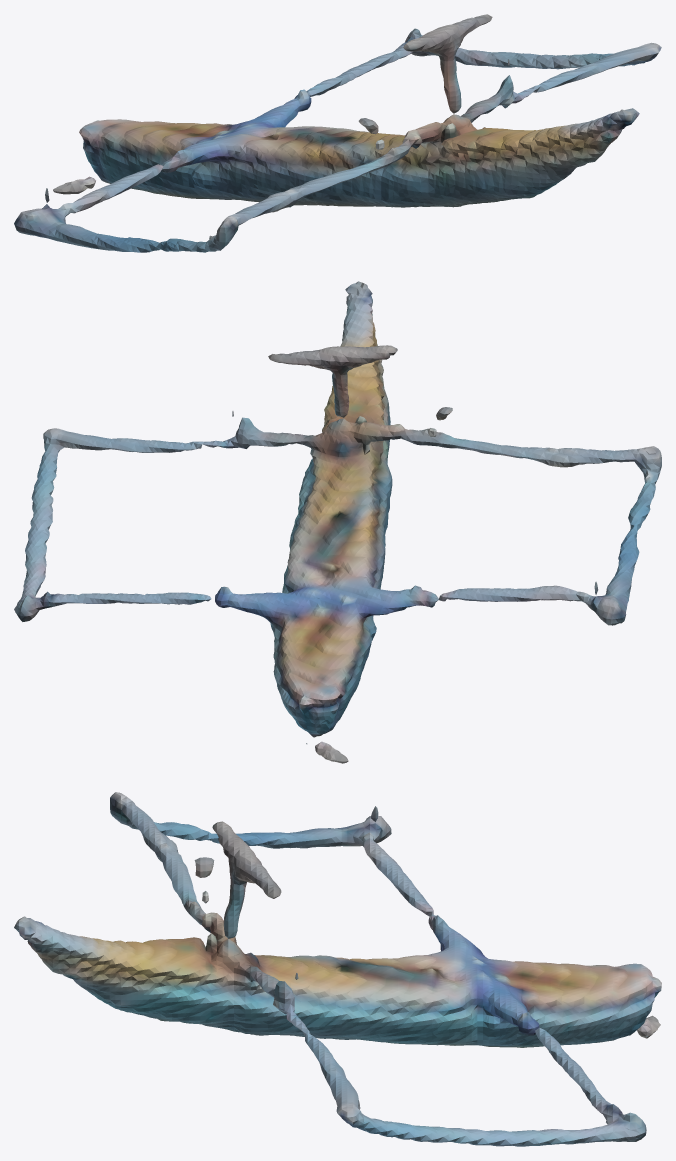
Rendered from maluku.glb.
3 renders of one model, top to bottom at view 1: azimuth 30°, elevation 25°; view 2: azimuth 150°, elevation 25°; view 3: azimuth 270°, elevation 25°, orthographic. The views are drawn at different scales.
Visible parts, largest first — view 1: world; view 2: world; view 3: world.
Part boxes in pixels (bbox=[...]): world: bbox=[14, 14, 661, 252]; world: bbox=[14, 281, 661, 763]; world: bbox=[14, 792, 661, 1146].
Size of the model in its own units: 0.9448 by 0.3742 by 0.7817.
